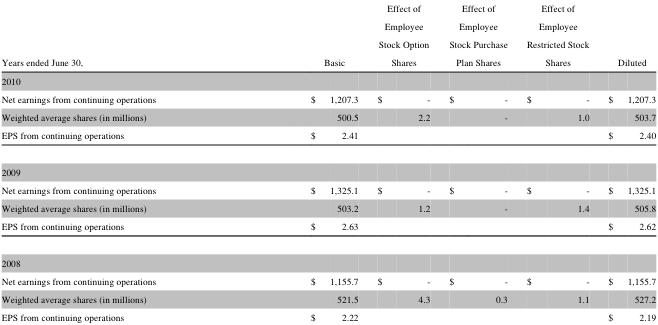table: (0, 0, 655, 322)
table column: (0, 0, 232, 322), (232, 0, 367, 322), (516, 0, 598, 322), (438, 0, 516, 322), (367, 0, 438, 322), (598, 0, 655, 322)
table column header: (0, 0, 655, 70)
table projected row header: (0, 152, 655, 180), (0, 243, 655, 271), (0, 70, 655, 89)
table row: (0, 0, 655, 70), (0, 152, 655, 180), (0, 243, 655, 271), (0, 125, 655, 152), (0, 216, 655, 243), (0, 70, 655, 89), (0, 89, 655, 107), (0, 107, 655, 125), (0, 180, 655, 198), (0, 198, 655, 216), (0, 271, 655, 289), (0, 289, 655, 306), (0, 306, 655, 322)
